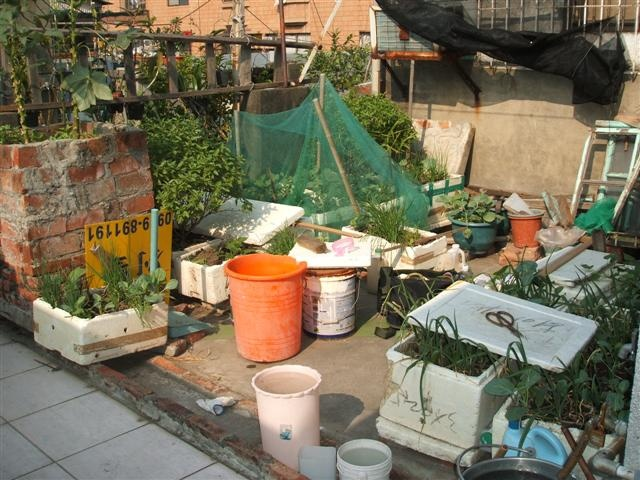bottle: (447, 243, 469, 272)
bucket: (222, 253, 309, 365), (250, 363, 321, 471), (301, 269, 356, 337), (335, 435, 393, 480), (506, 207, 546, 248)
plastic_bag: (576, 198, 613, 230)
